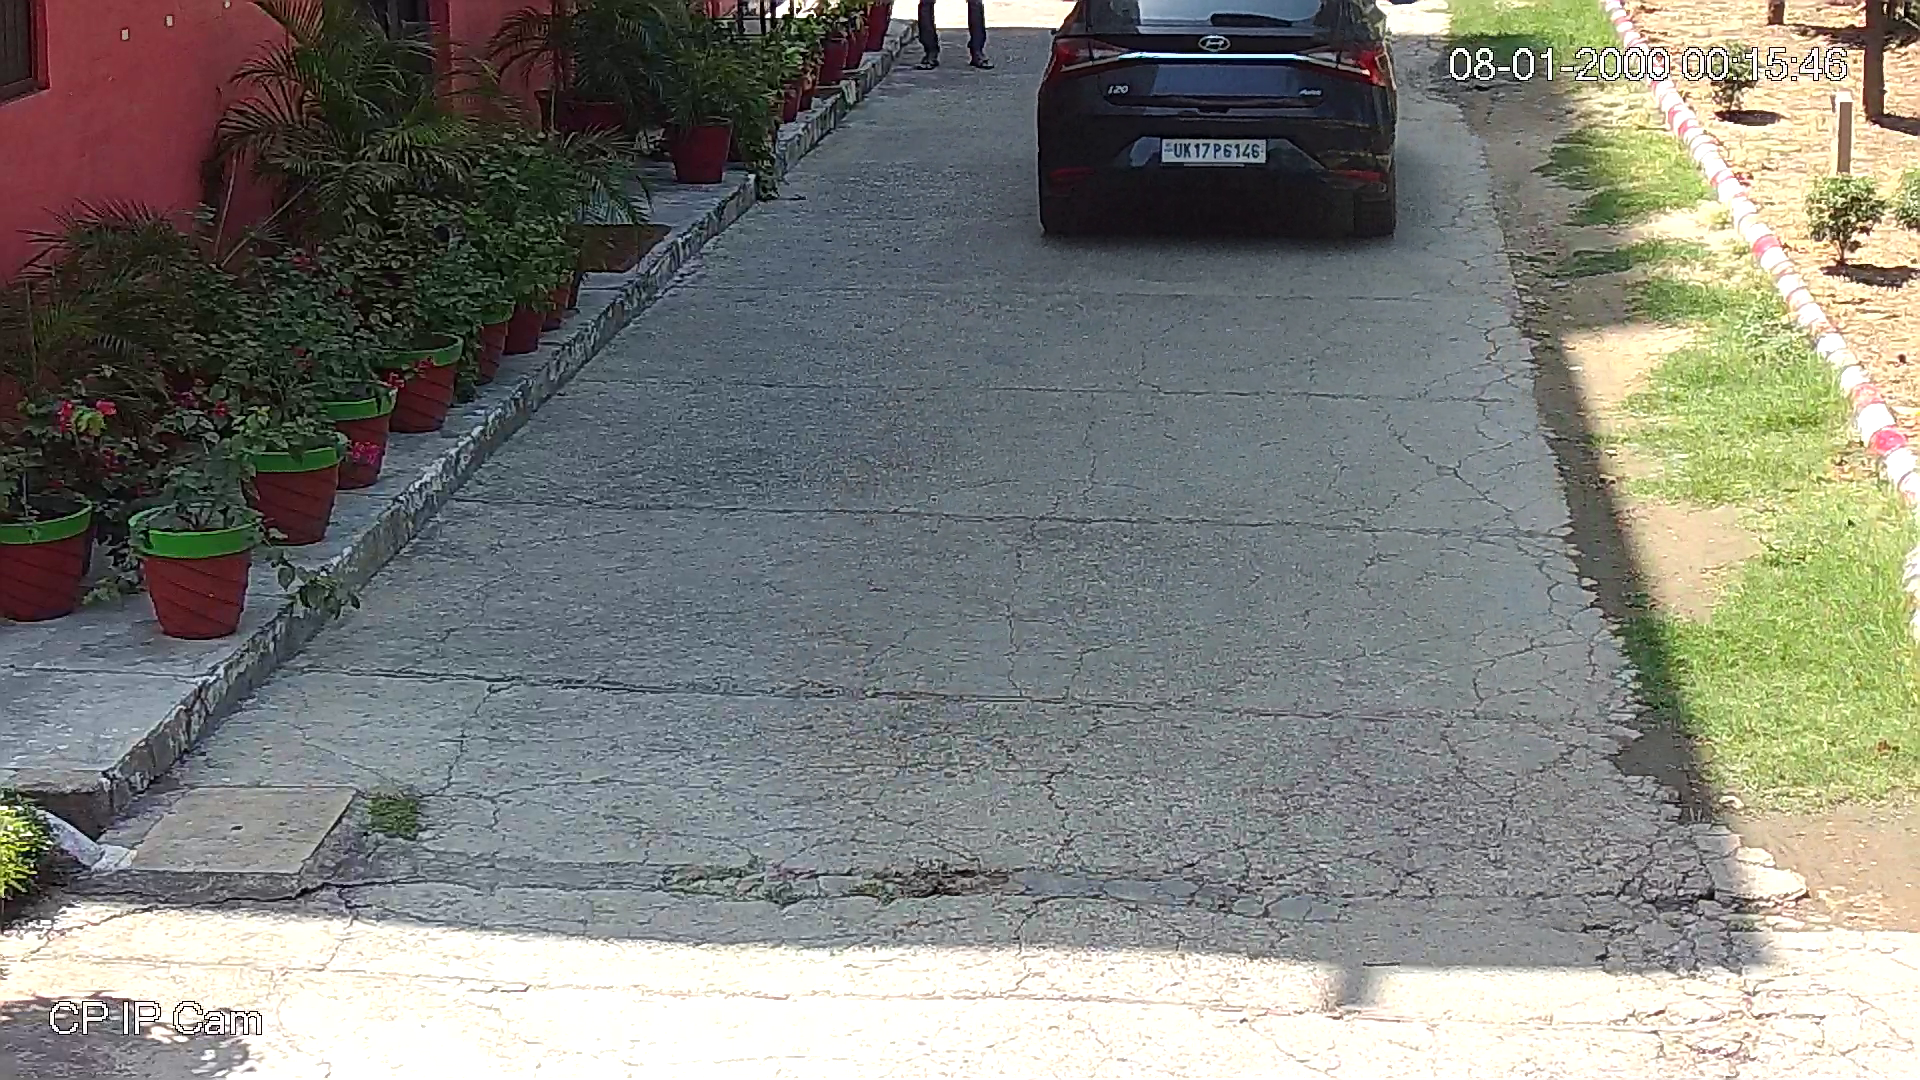plate: (1159, 134, 1272, 167)
